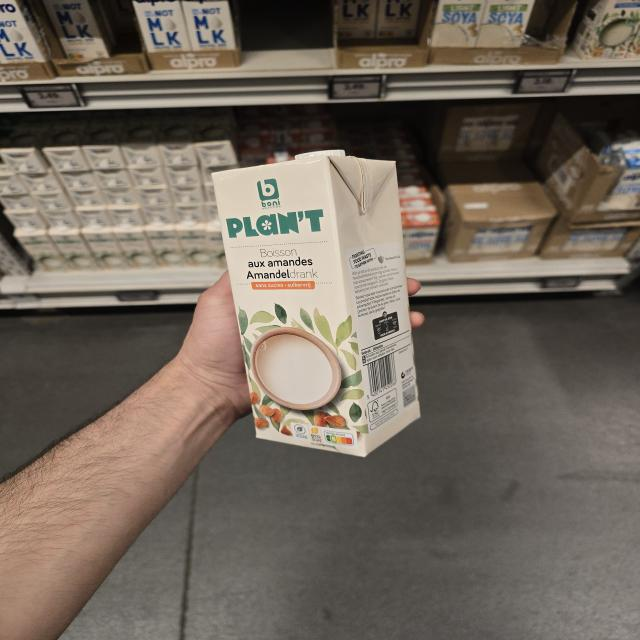Milk: (213, 149, 421, 457)
